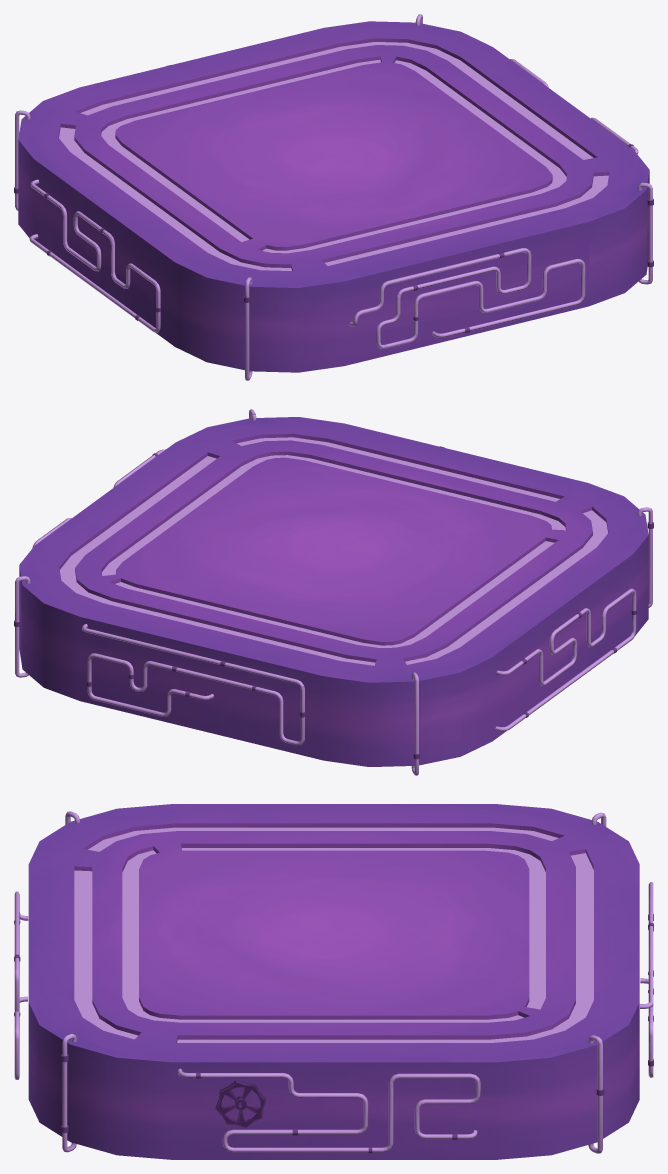
The model's file is platform_2.fbx.
The picture shows the model from 3 angles, top to bottom: view 1: azimuth 30°, elevation 25°; view 2: azimuth 150°, elevation 25°; view 3: azimuth 270°, elevation 25°; orthographic projection. The views are drawn at different scales.
Parts seen in each view (by area): view 1: platform_2; view 2: platform_2; view 3: platform_2.
Part boxes in pixels (x1,y1,x2,y2): platform_2: (14, 14, 653, 380); platform_2: (14, 409, 653, 775); platform_2: (14, 804, 653, 1159).
Bounding box in the file's own units: 1212 × 244 × 1213.
